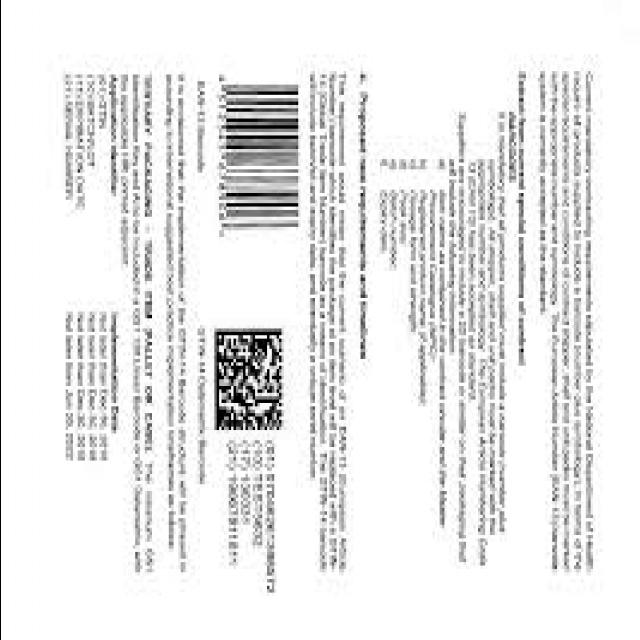DataMatrix: (209, 319, 290, 441)
